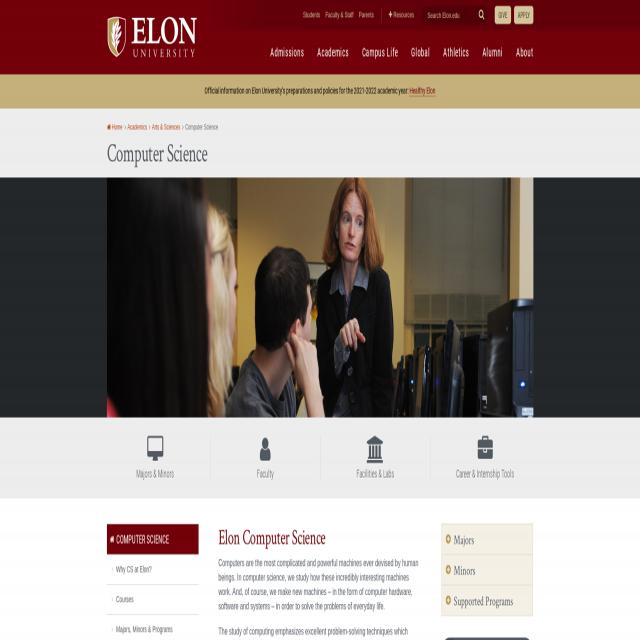button: (107, 435, 203, 480), (217, 435, 313, 480), (327, 435, 423, 480), (437, 435, 533, 480), (107, 16, 197, 59), (441, 555, 533, 586), (107, 524, 198, 554), (442, 524, 532, 554), (442, 586, 532, 616), (107, 555, 198, 584), (107, 585, 198, 614), (106, 615, 198, 640), (514, 6, 533, 24), (495, 6, 511, 24), (475, 6, 488, 24)
field: (422, 6, 488, 24)
